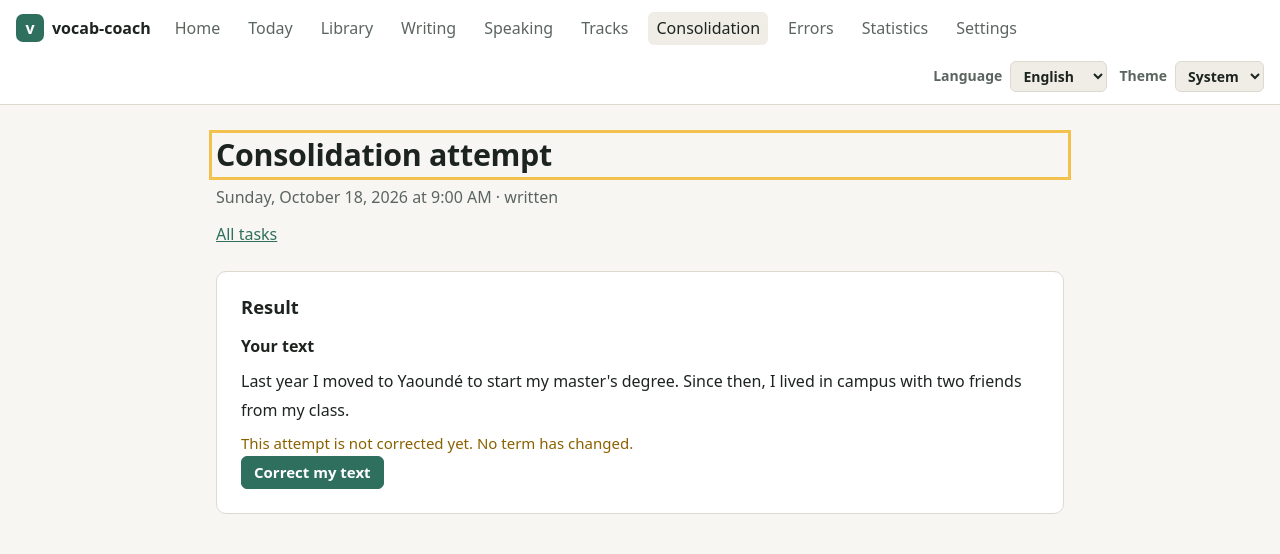
it: Consolidation attempt page › tells an AI failure and offers to try again
The image size is (1280, 554).
Click the button "Correct my text" at (312, 472), box [241,456,384,489]
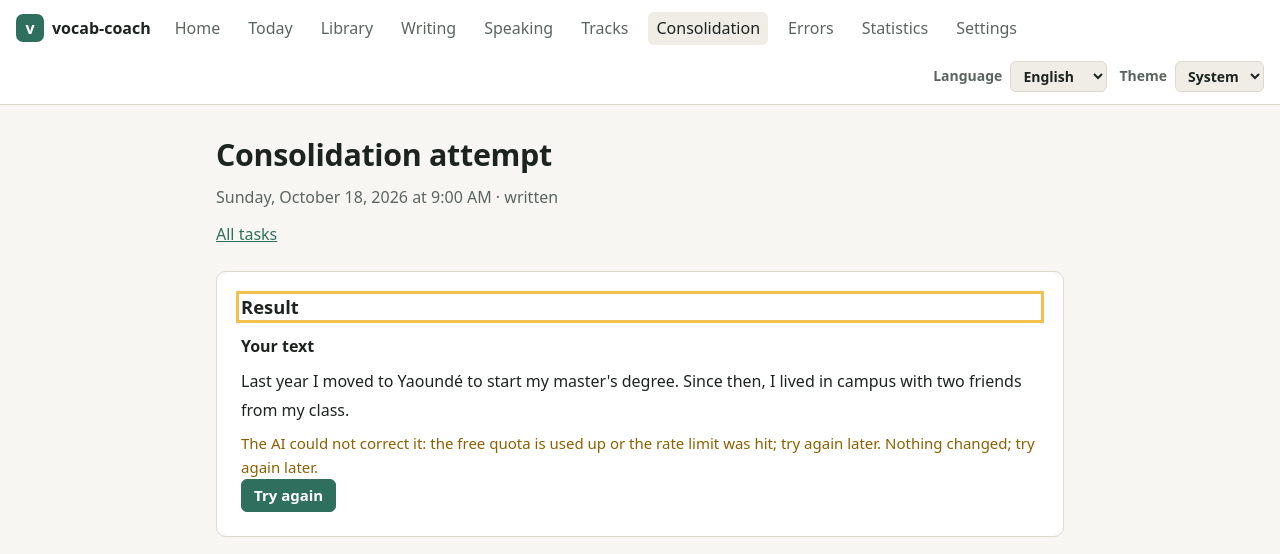
Expected: the button "Try again" is enabled, [241,479,336,512]
Expected: the text "free quota is used up" is shown, [241,433,1035,477]
